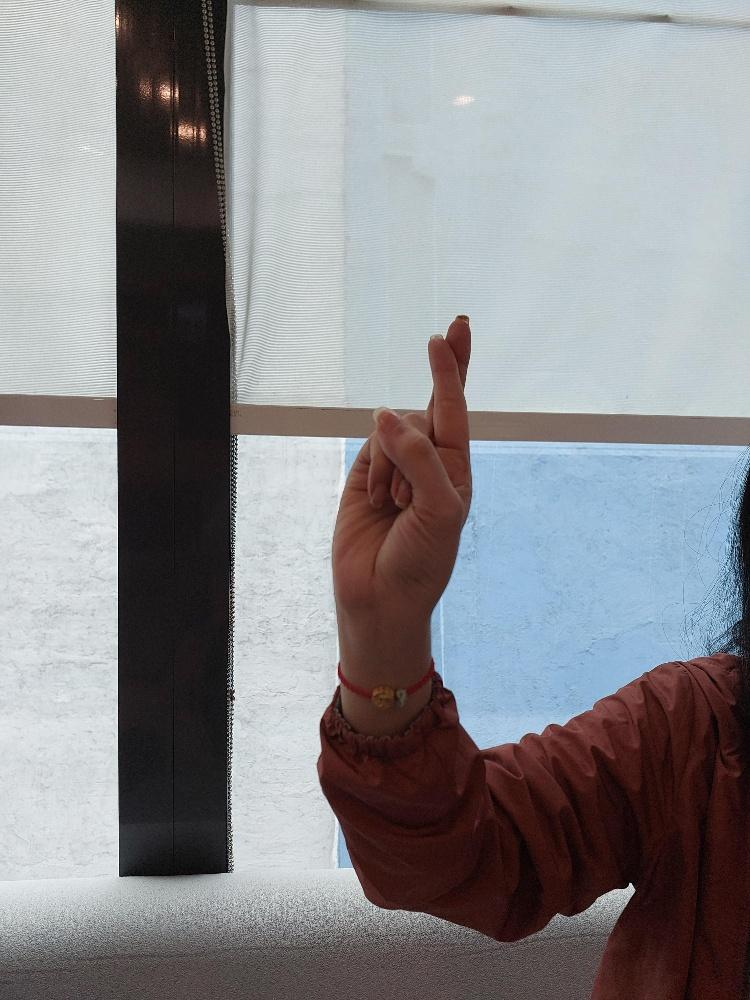r: (329, 309, 479, 636)
